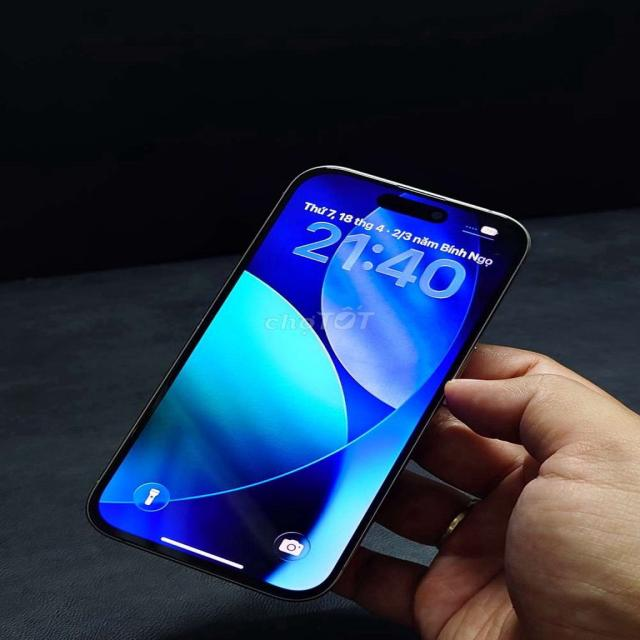gen_15: (75, 153, 533, 603)
